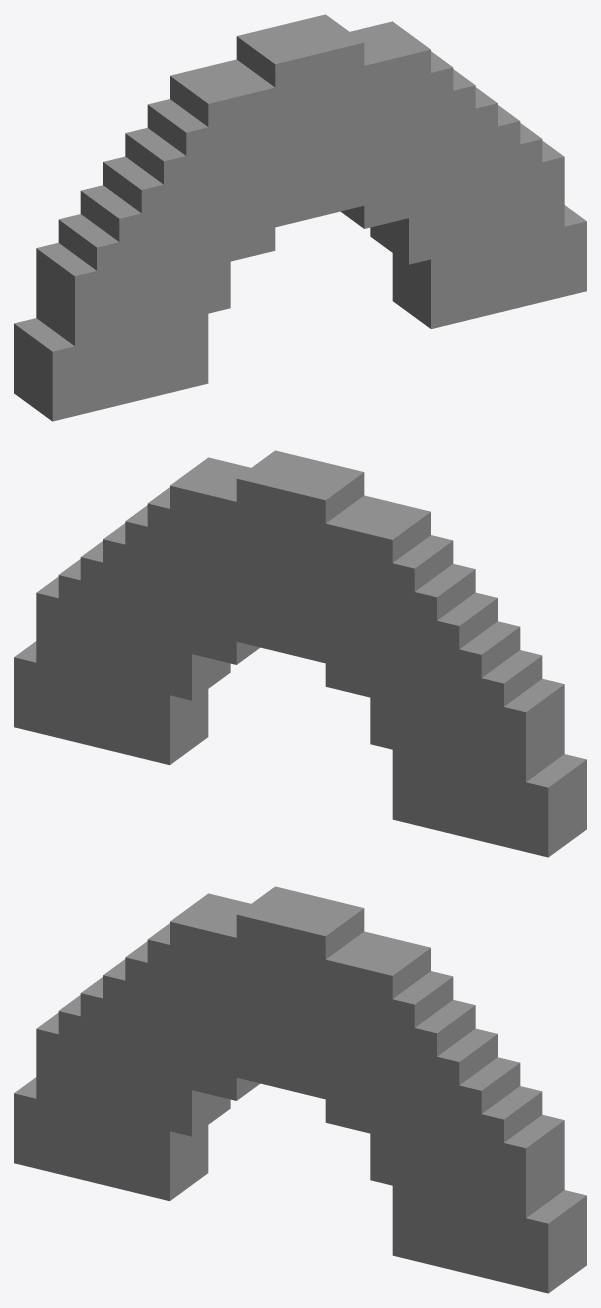
The model's file is rainbow.fbx.
The picture shows the model from 3 angles, top to bottom: view 1: azimuth 30°, elevation 25°; view 2: azimuth 150°, elevation 25°; view 3: azimuth 330°, elevation 25°; orthographic projection.
Parts seen in each view (by area): view 1: pCube4504, pCube4546, pCube4534, pCube4484, pCube4520, pCube4511, pCube4543, pCube168, pCube4478, pCube4570, pCube194, pCube184 (+188 smaller); view 2: pCube4661, pCube4664, pCube4677, pCube4671, pCube4679, pCube4639, pCube4769, pCube4803, pCube4720, pCube4668, pCube4632, pCube4742 (+188 smaller); view 3: pCube4573, pCube4600, pCube4630, pCube4587, pCube4611, pCube4567, pCube4591, pCube4623, pCube4616, pCube4459, pCube4621, pCube4458 (+188 smaller).
Boxes of the visible parts, x1,y1,x2,y2 form: pCube4504: [106, 204, 141, 241]; pCube4546: [173, 118, 208, 155]; pCube4534: [262, 49, 297, 87]; pCube4484: [84, 233, 119, 270]; pCube4520: [151, 146, 186, 184]; pCube4511: [128, 175, 163, 213]; pCube4543: [195, 89, 230, 126]; pCube168: [39, 337, 74, 374]; pCube4478: [62, 261, 96, 299]; pCube4570: [418, 273, 453, 305]; pCube194: [39, 389, 74, 421]; pCube184: [39, 366, 74, 398]; pCube4661: [459, 640, 494, 677]; pCube4664: [392, 554, 427, 591]; pCube4677: [303, 485, 338, 523]; pCube4671: [414, 582, 449, 620]; pCube4679: [481, 669, 516, 706]; pCube4639: [437, 611, 472, 649]; pCube4769: [370, 525, 405, 562]; pCube4803: [526, 773, 561, 810]; pCube4720: [504, 697, 538, 735]; pCube4668: [147, 709, 182, 741]; pCube4632: [526, 825, 561, 857]; pCube4742: [147, 733, 182, 764]; pCube4573: [392, 990, 427, 1027]; pCube4600: [459, 1076, 494, 1113]; pCube4630: [303, 921, 338, 959]; pCube4587: [414, 1018, 449, 1056]; pCube4611: [481, 1105, 516, 1142]; pCube4567: [370, 961, 405, 998]; pCube4591: [437, 1047, 472, 1085]; pCube4623: [526, 1209, 561, 1246]; pCube4616: [504, 1133, 538, 1171]; pCube4459: [147, 1145, 182, 1177]; pCube4621: [526, 1261, 561, 1293]; pCube4458: [147, 1169, 182, 1200].
Size of the model in its own units: 24 by 13 by 3.
